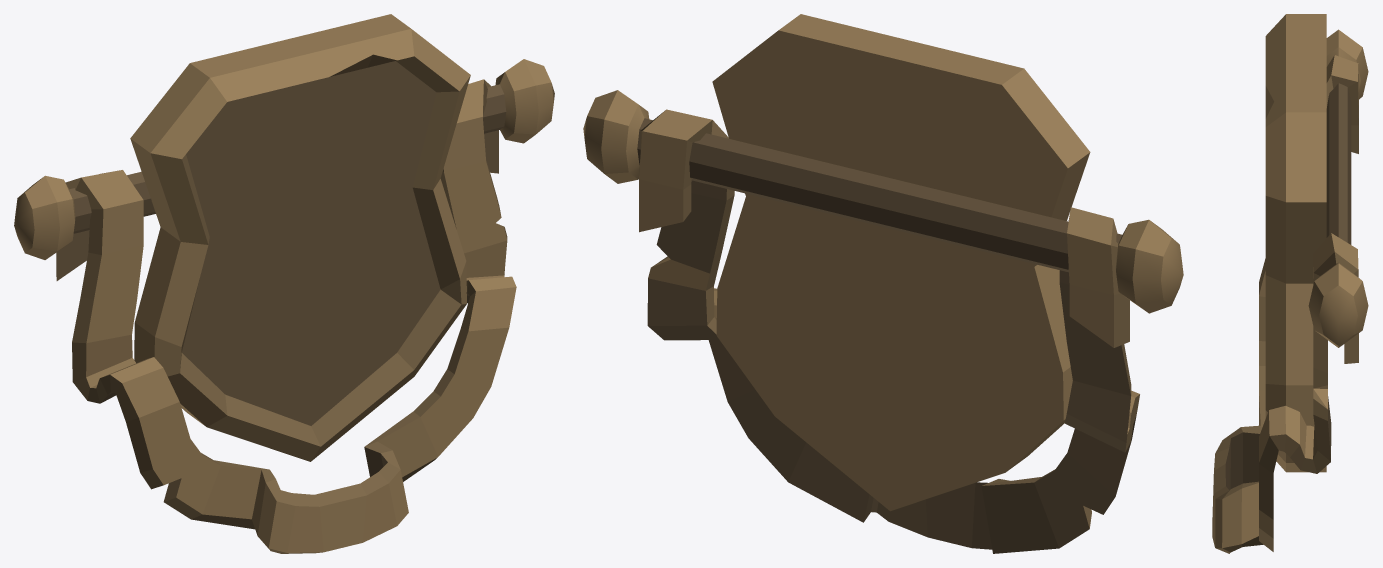
The model's file is SM_Sign_Police_09.fbx.
3 views of the same model, side by side, from view 1: azimuth 30°, elevation 25°; view 2: azimuth 150°, elevation 25°; view 3: azimuth 270°, elevation 25° (orthographic). The views are drawn at different scales.
Parts seen in each view (by area): view 1: SM_Sign_Police_09; view 2: SM_Sign_Police_09; view 3: SM_Sign_Police_09.
Part boxes in pixels (x1,y1,x2,y2): SM_Sign_Police_09: (14, 14, 554, 553); SM_Sign_Police_09: (583, 14, 1183, 553); SM_Sign_Police_09: (1212, 14, 1368, 553).
Size of the model in its own units: 243 by 203 by 60.71.
